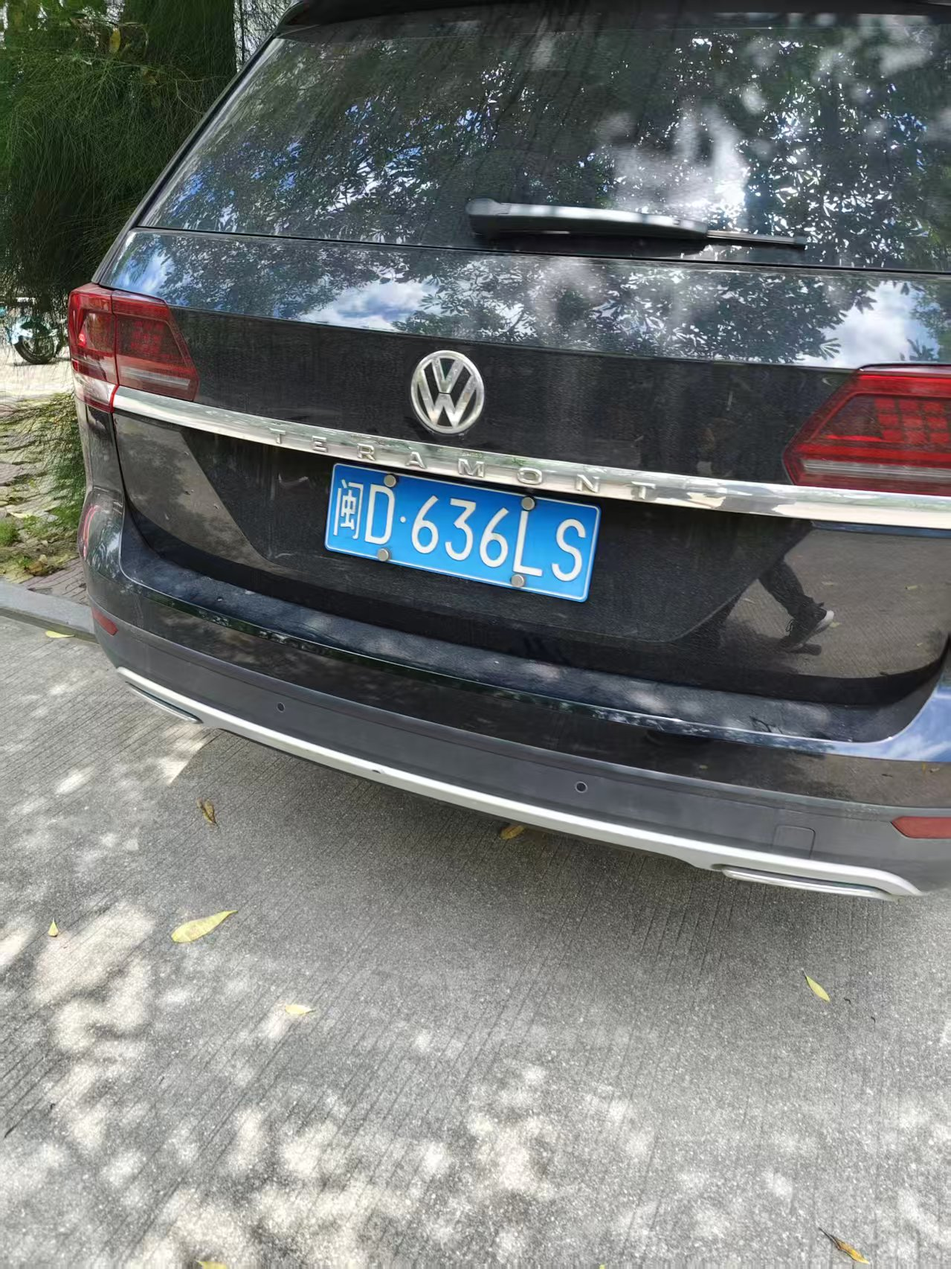plate: (321, 472, 610, 608)
